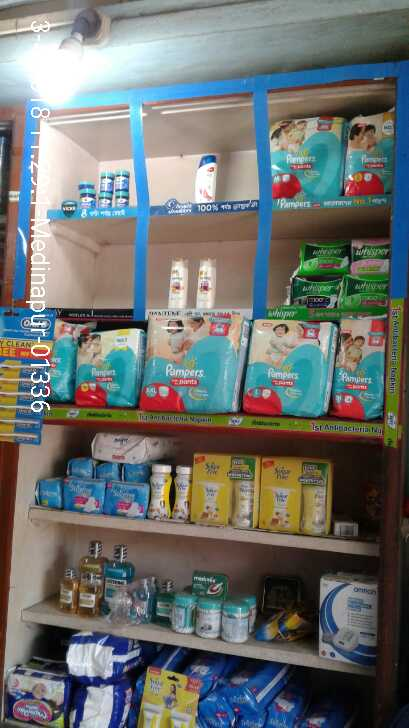vicks: (76, 166, 132, 215)
